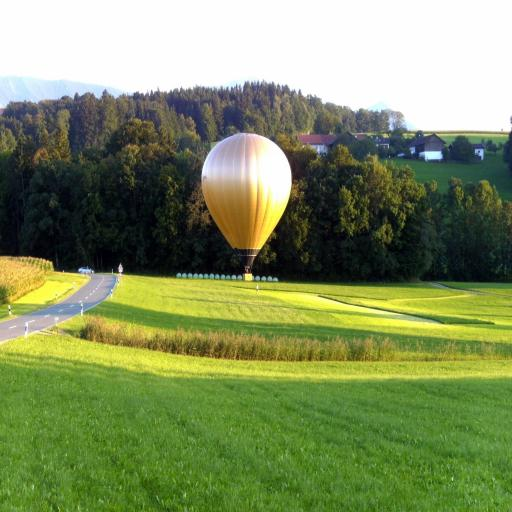hot air ballon: (202, 133, 292, 281)
